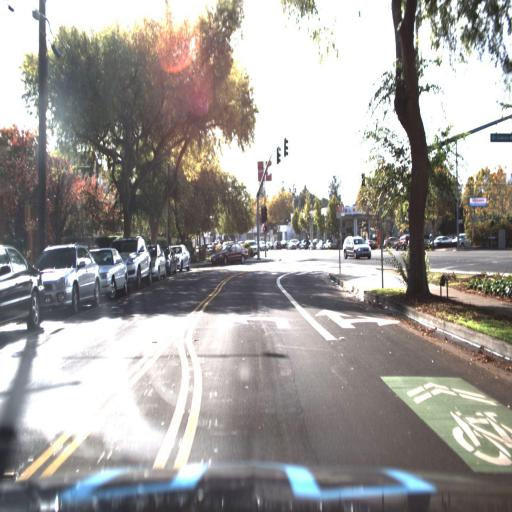car: (44, 238, 102, 319), (0, 244, 45, 342), (97, 242, 128, 297), (128, 235, 154, 291), (208, 238, 250, 269), (339, 230, 375, 264), (178, 237, 196, 275), (151, 242, 168, 282), (166, 240, 178, 279), (244, 234, 264, 257), (429, 232, 452, 249)
